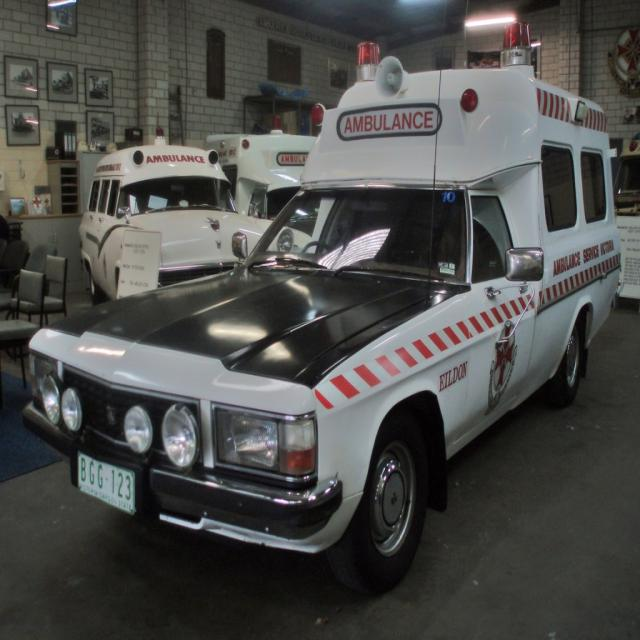Ambulance: (19, 19, 622, 581), (78, 125, 314, 301), (202, 126, 320, 236)
